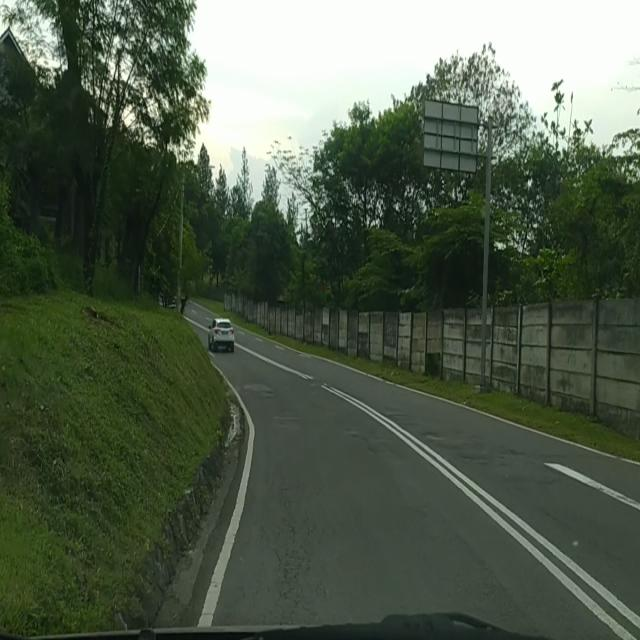Drain Hole: (257, 492, 321, 612)
